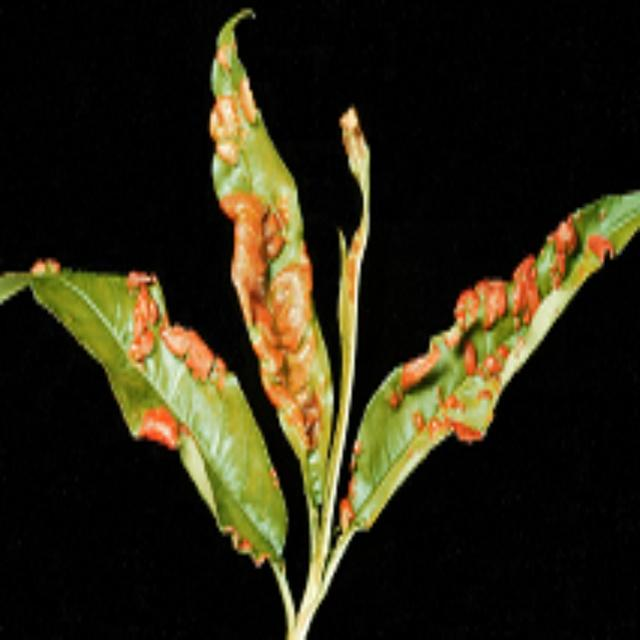leaf_curl: (327, 148, 640, 559), (15, 232, 302, 606), (151, 0, 337, 498), (186, 3, 346, 502)
